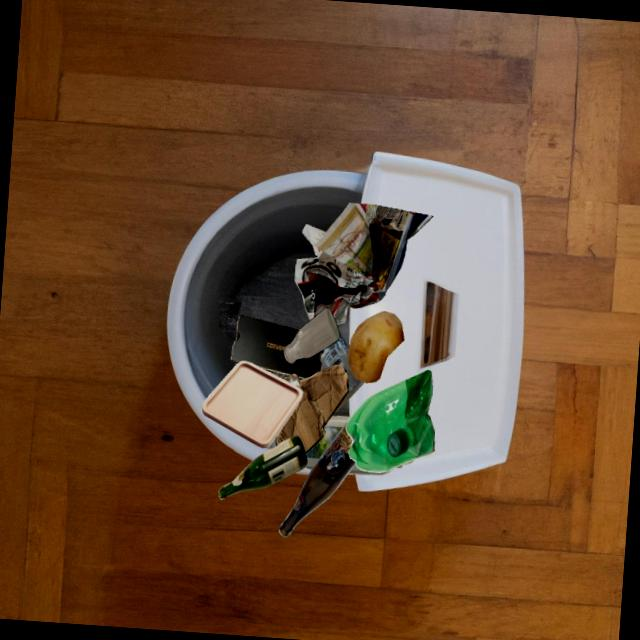biowaste: (348, 310, 404, 383)
cardboard: (275, 364, 348, 453), (230, 314, 324, 378)
combustible waste: (201, 360, 302, 448)
glass: (279, 419, 355, 537), (218, 435, 307, 499), (283, 307, 339, 364), (261, 367, 277, 375)
paper: (294, 202, 433, 324)
plastic: (345, 369, 434, 472), (320, 327, 364, 412), (343, 421, 412, 470), (305, 415, 343, 469), (268, 436, 276, 449)
